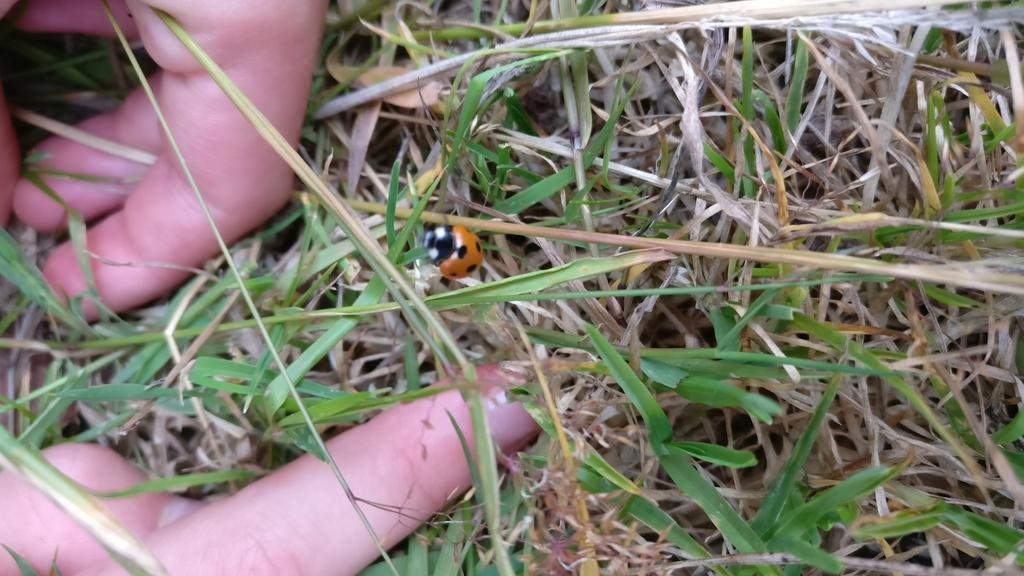ladybug: (420, 222, 488, 284)
